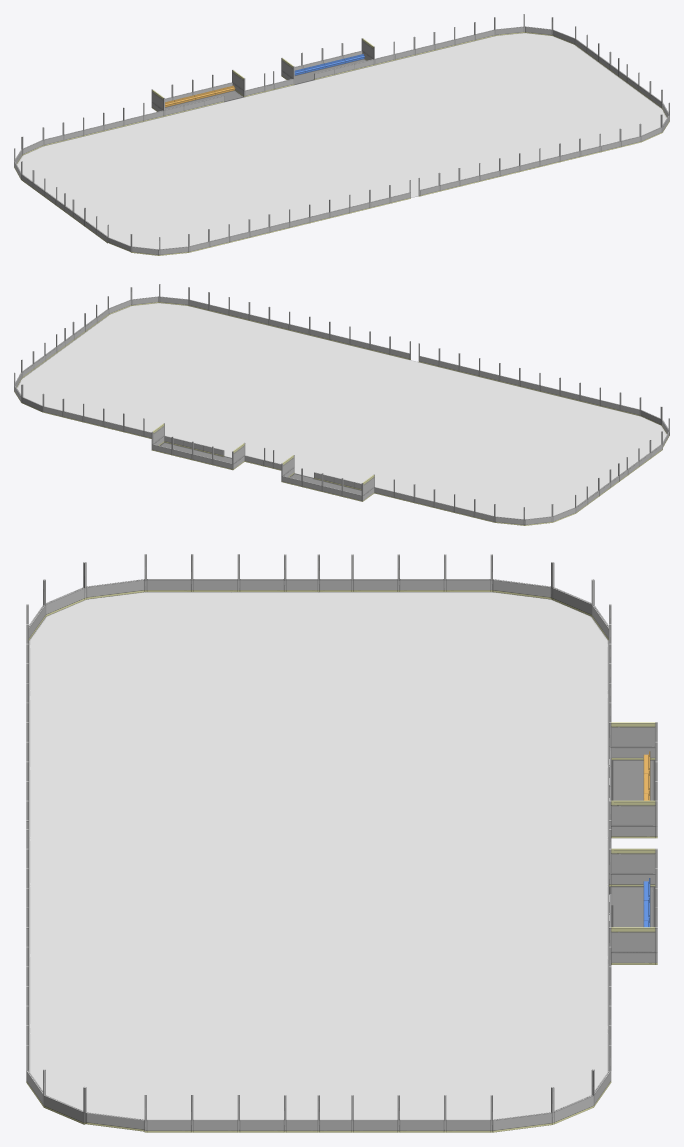
The model's file is rink.obj.
The picture shows the model from 3 angles, top to bottom: view 1: azimuth 30°, elevation 25°; view 2: azimuth 150°, elevation 25°; view 3: azimuth 270°, elevation 25°; orthographic projection. The views are drawn at different scales.
Visible parts, largest first — view 1: Cube; view 2: Cube; view 3: Cube.
Part boxes in pixels (x1,y1,x2,y2): Cube: (14,14,669,255); Cube: (14,284,669,525); Cube: (26,554,657,1132).
Bounding box in the file's own units: 221 × 7 × 109.
